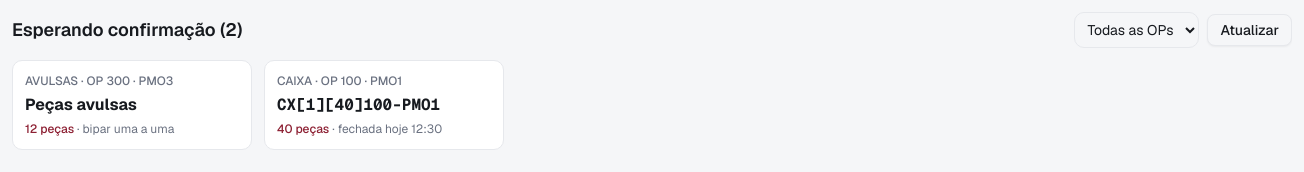
Scenario: ListaCartoes: peças avulsas › sem hora, a linha não ganha o trecho final; o filtro por OP vale
Select "100 · PMO1" in the dropdown named "Filtrar por OP" at (1137, 30), box [1074, 12, 1199, 48]
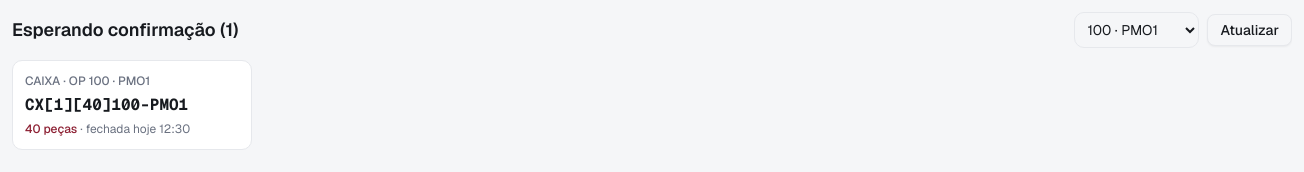
Result: the button "Peças avulsas" is gone
